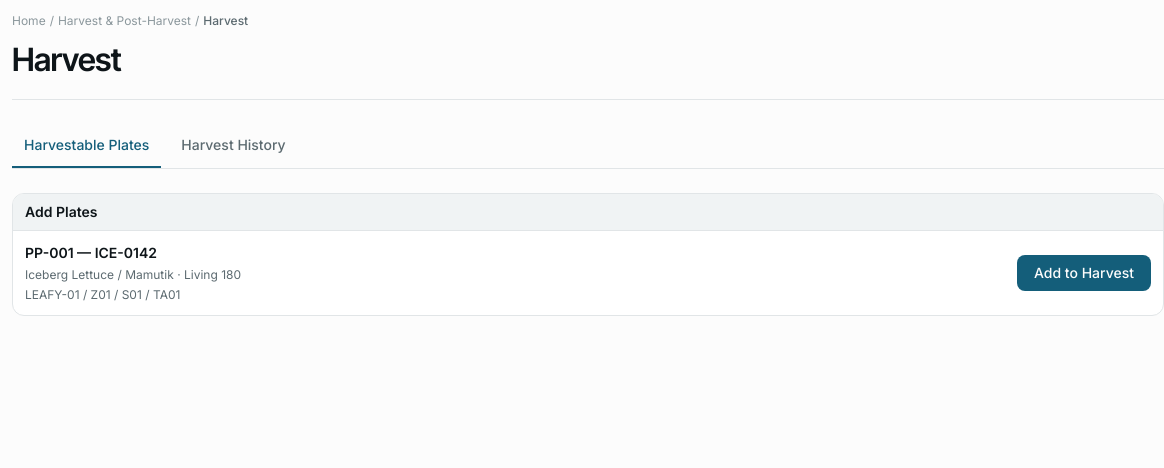
Test: LeafyHarvestPage › BROWSER QA CORRECTION -- DEFECT 2: shows reason labels (not raw codes) for repeated and void corrections
The width and height of the screenshot is (1164, 468).
expect the text "PP-001 — ICE-0142" is shown: met, box [25,244,157,261]
Click the tab "Harvest History". click: (233, 146)
box: [169,124,298,168]
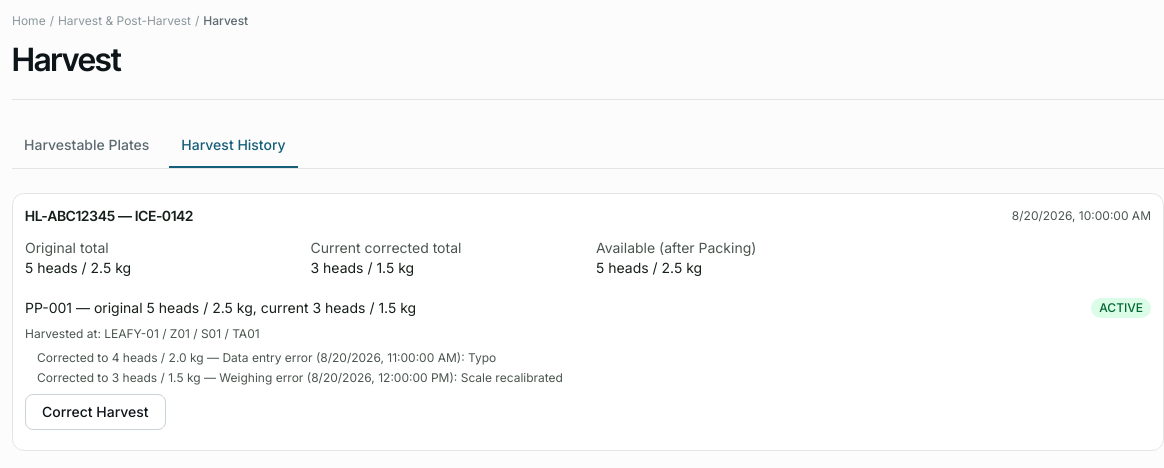
expect the text "HL-ABC12345 — ICE-0142" is shown: met, box [25,206,193,226]
expect the list item "Data entry error" is shown: met, box [222,350,312,365]
expect the list item "Weighing error" is shown: met, box [219,370,303,385]
